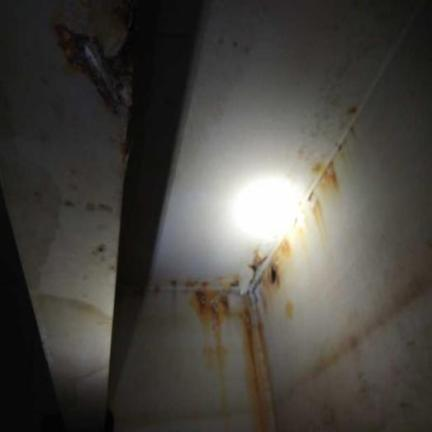karat: (304, 101, 361, 240)
